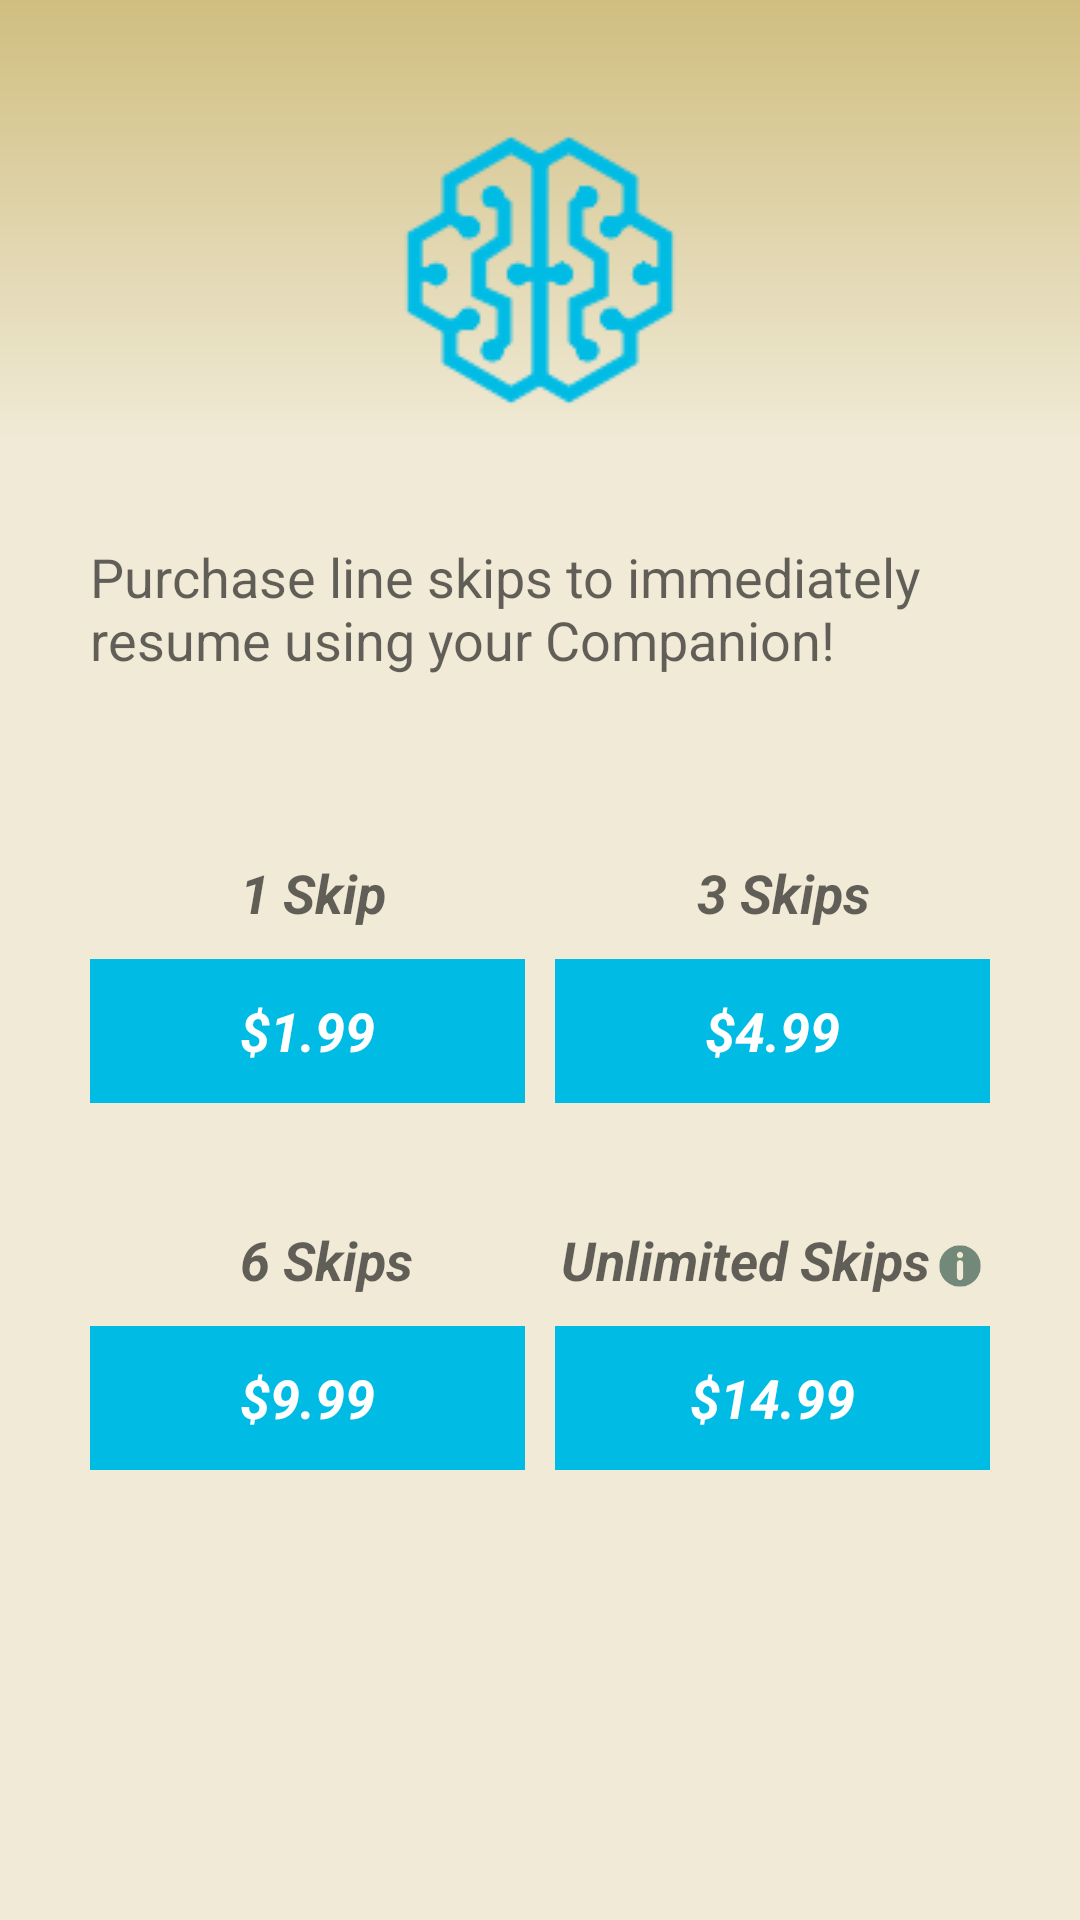

Named icons in this screenshot (1080px x 1920px) and their bounding boxes, (x1, y1, x2, y2):
info: (939, 1245, 981, 1287)
